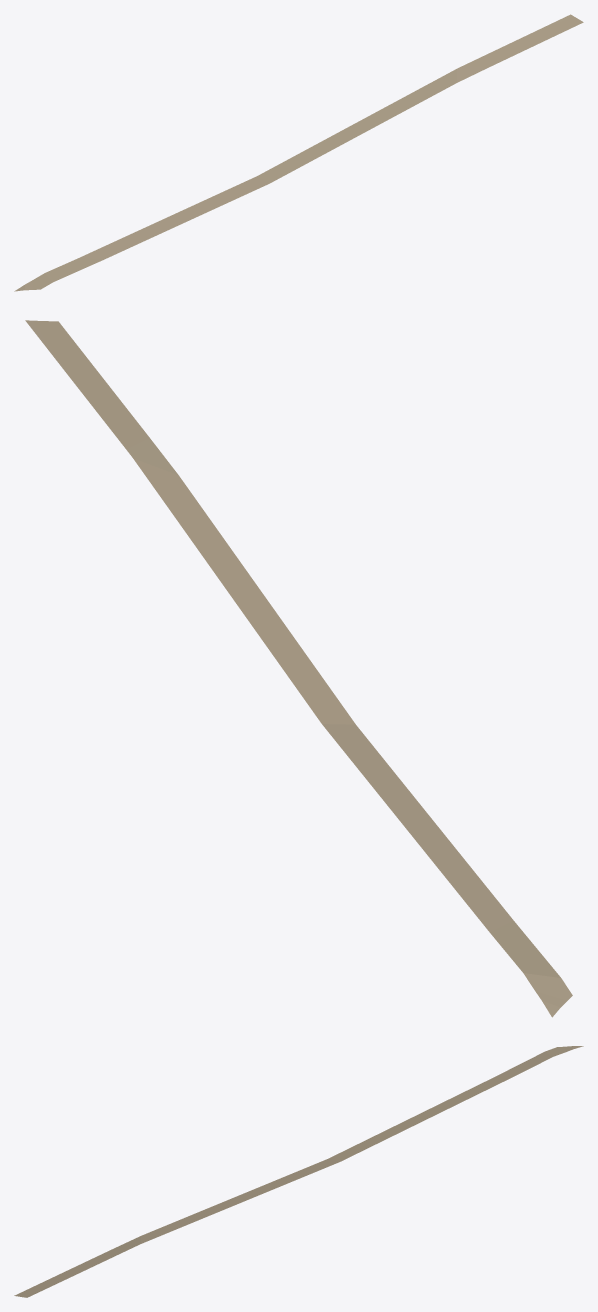
The model's file is farm_-33_-21_track.glb.
The picture shows the model from 3 angles, top to bottom: view 1: azimuth 90°, elevation 25°; view 2: azimuth 150°, elevation 25°; view 3: azimuth 270°, elevation 25°; orthographic projection. The views are drawn at different scales.
Parts seen in each view (by area): view 1: geometry_0; view 2: geometry_0; view 3: geometry_0.
Boxes of the visible parts, <box> form: geometry_0: <box>14,14,583,291</box>; geometry_0: <box>25,320,572,1017</box>; geometry_0: <box>14,1046,583,1297</box>.
Size of the model in its own units: 116 by 3.07 by 106.
